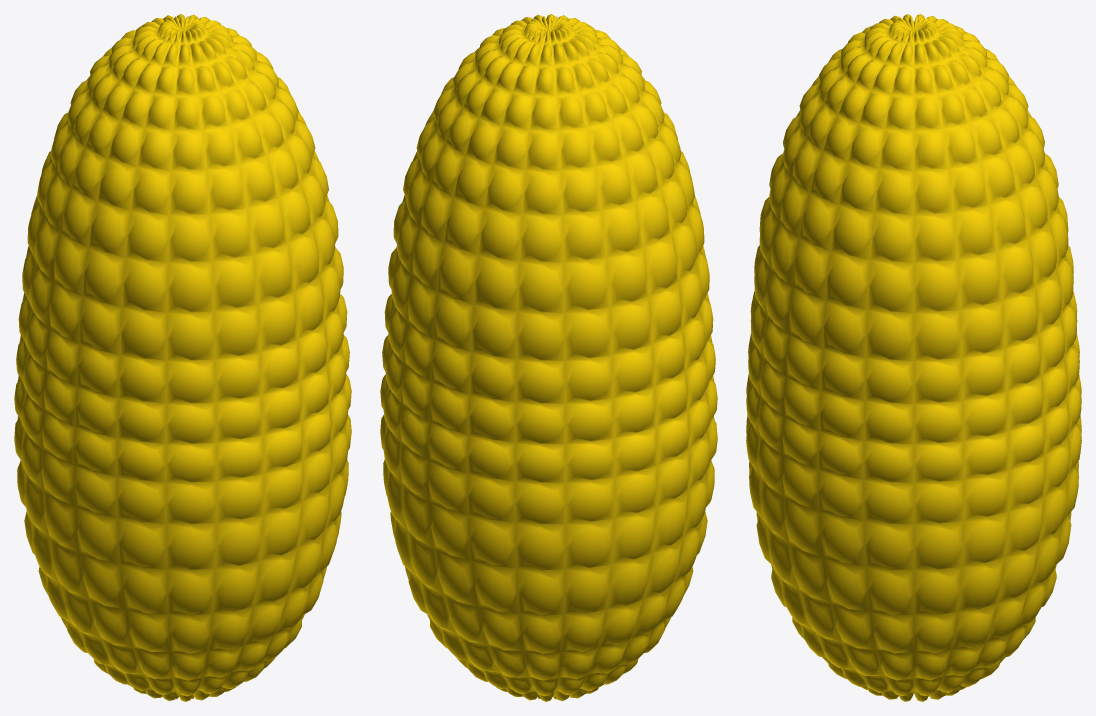
File: milho.fbx
3 views of the same model, side by side, from view 1: azimuth 30°, elevation 25°; view 2: azimuth 150°, elevation 25°; view 3: azimuth 270°, elevation 25° (orthographic).
Visible parts, largest first — view 1: Milho; view 2: Milho; view 3: Milho.
Boxes of the visible parts, box(x1,y1,x2,y2) form: Milho: box(14, 14, 351, 701); Milho: box(380, 14, 717, 701); Milho: box(746, 14, 1081, 701).
Bounding box in the file's own units: 43.05 × 94.3 × 43.05.
